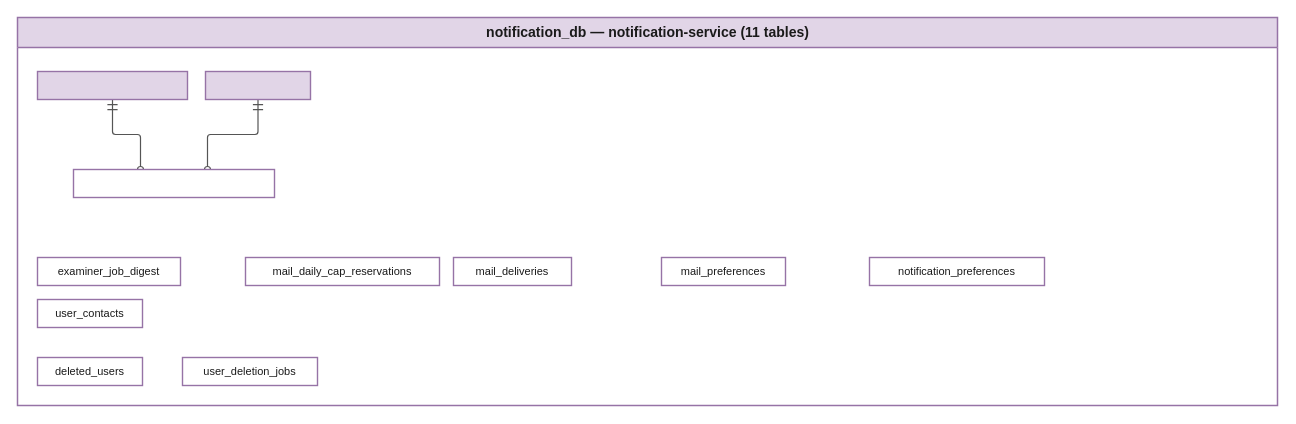
Some shapes in this 1296 by 424 pixel diagram are drawn without their labels. The centre of each missing label's shape, as x and y in pixels:
notification_devices: (112,85)
notification_push_deliveries: (173,183)
notifications: (257,85)
